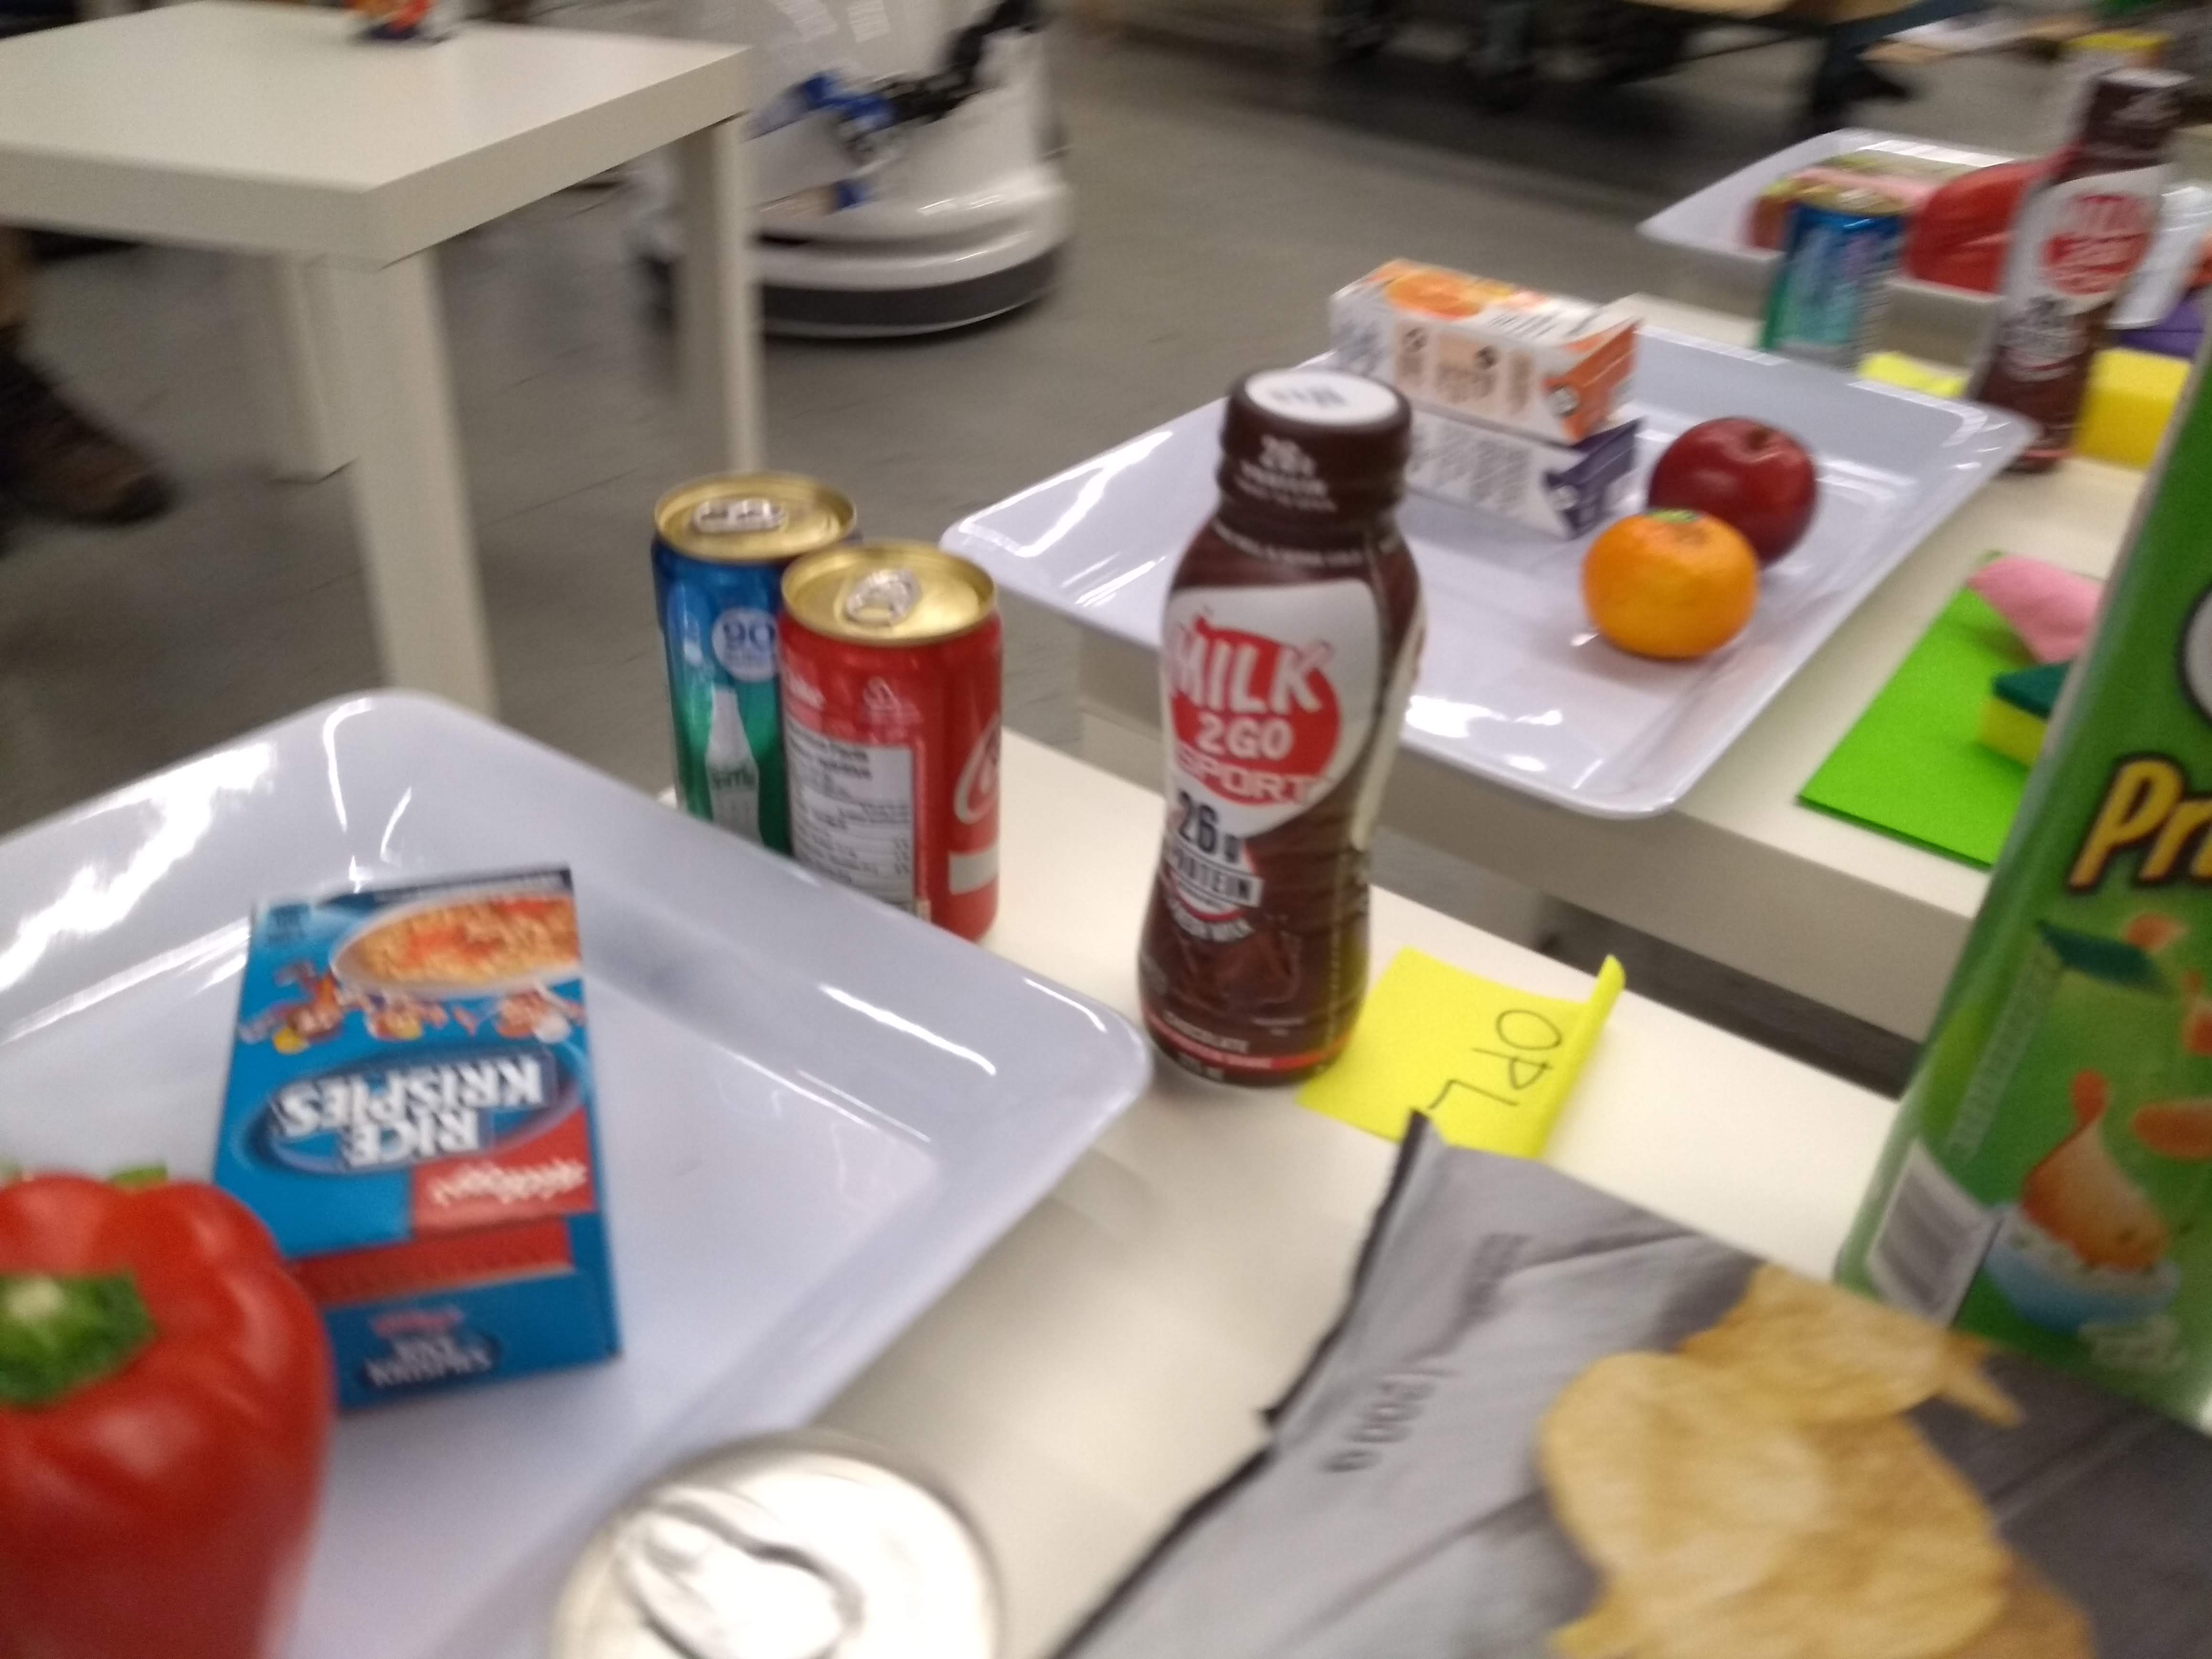cereal: (221, 854, 648, 1425)
chocolate_drink: (1125, 359, 1435, 1096)
coke: (773, 538, 1014, 953)
orange: (1571, 498, 1764, 671)
